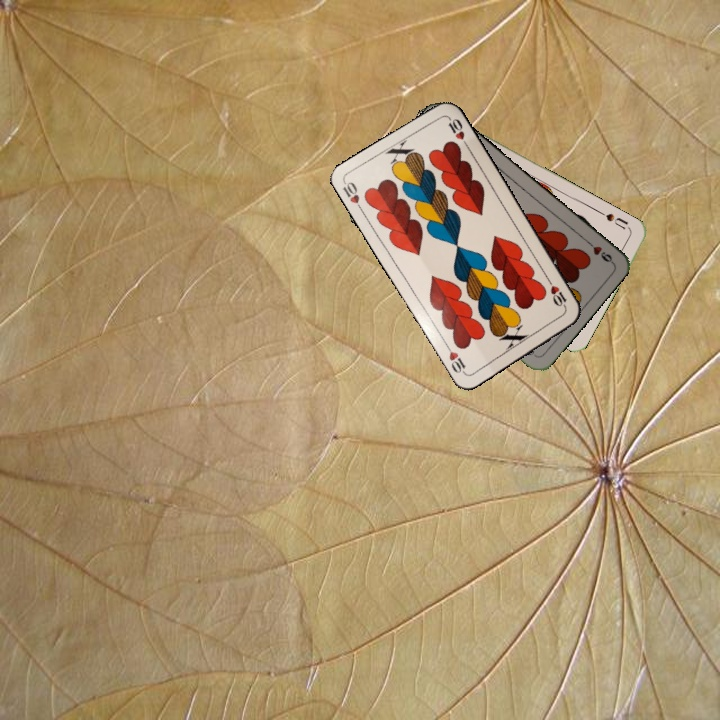H10: (339, 178, 366, 216), (544, 275, 569, 312)
H9: (581, 235, 615, 265)
SU: (596, 207, 633, 232)
